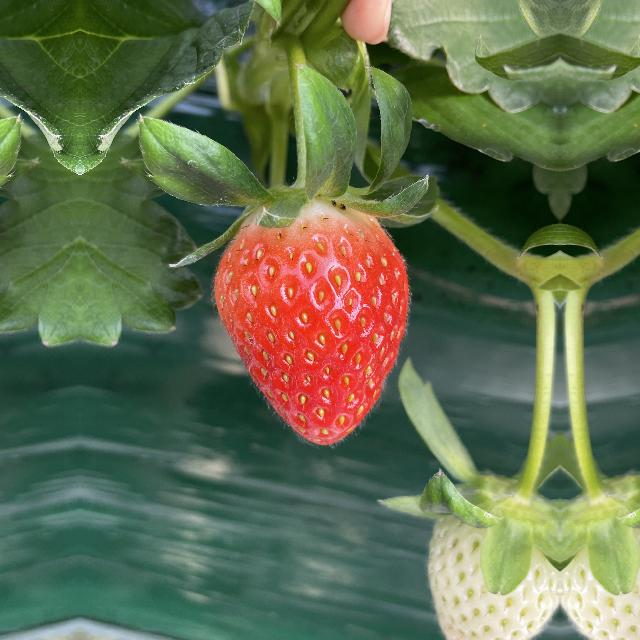Health_100: (215, 192, 408, 446)
Health_25: (420, 450, 560, 640), (560, 450, 640, 639)
